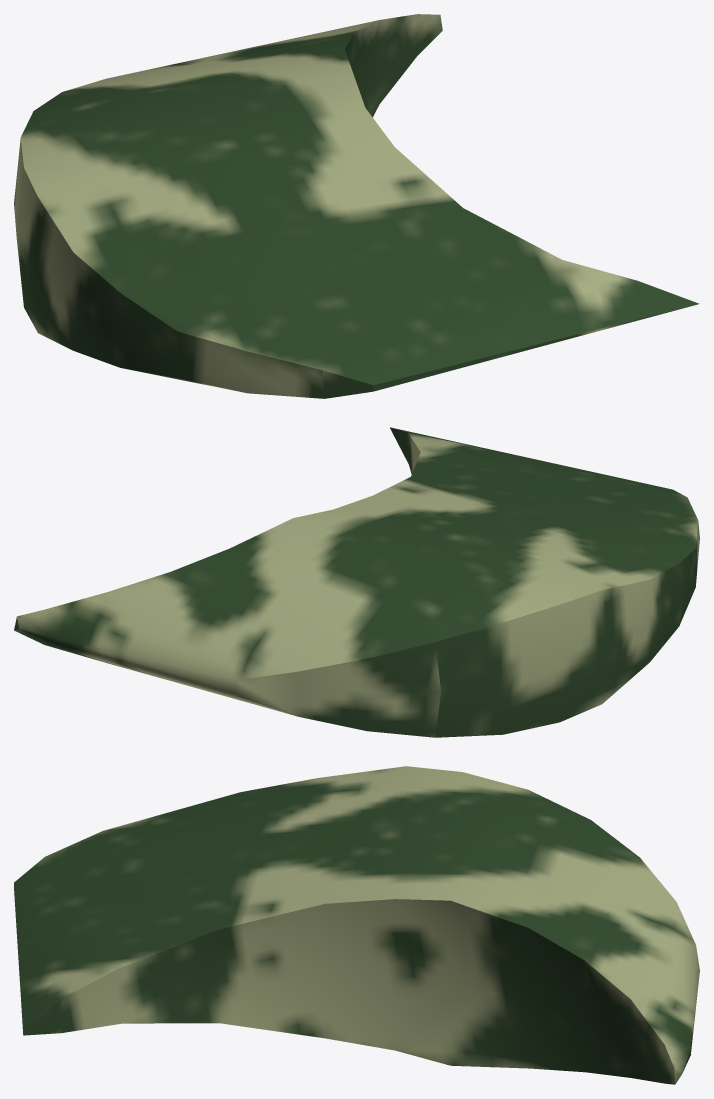
File: link_body_34.obj
The picture shows the model from 3 angles, top to bottom: view 1: azimuth 30°, elevation 25°; view 2: azimuth 150°, elevation 25°; view 3: azimuth 270°, elevation 25°; orthographic projection. The views are drawn at different scales.
Visible parts, largest first — view 1: link_body_34; view 2: link_body_34; view 3: link_body_34.
Boxes of the visible parts, box(x1,y1,x2,y2) form: link_body_34: box(14, 14, 699, 398); link_body_34: box(14, 427, 699, 737); link_body_34: box(14, 766, 699, 1084).
Bounding box in the file's own units: 7.24 × 2.17 × 8.19.
